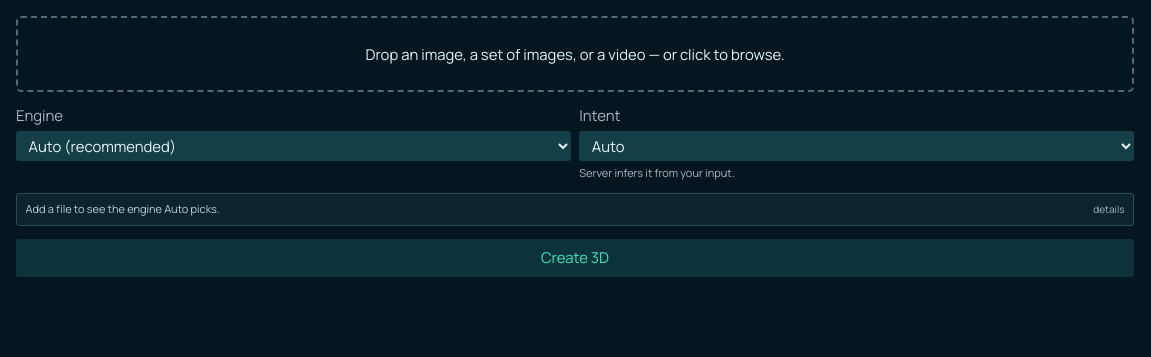
CreatePanel capture contract › responds to a programmatic value set plus a change event
This screenshot has width=1151, height=357.
Step 1. Select "preview" in the dropdown labelled "Engine" → (293, 146), box [16, 130, 571, 161]
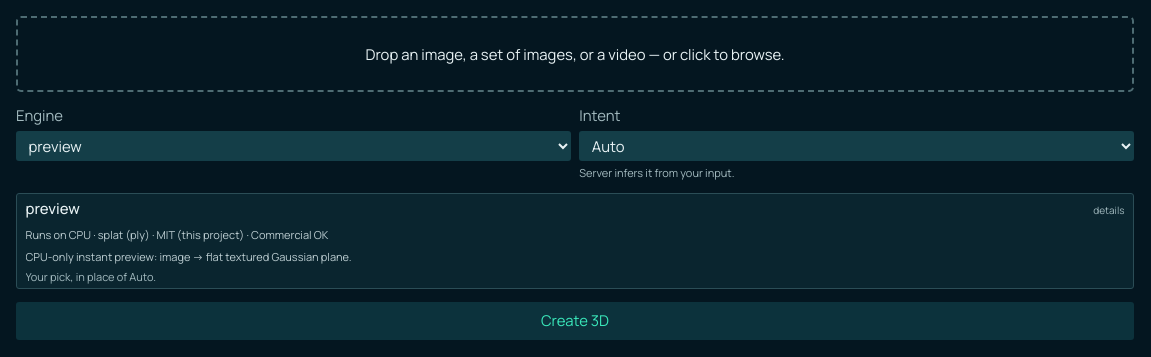
Step 2. Select "Scene (portal)" in the dropdown labelled "Intent Server infers it from your input." → (857, 146), box [579, 130, 1134, 161]
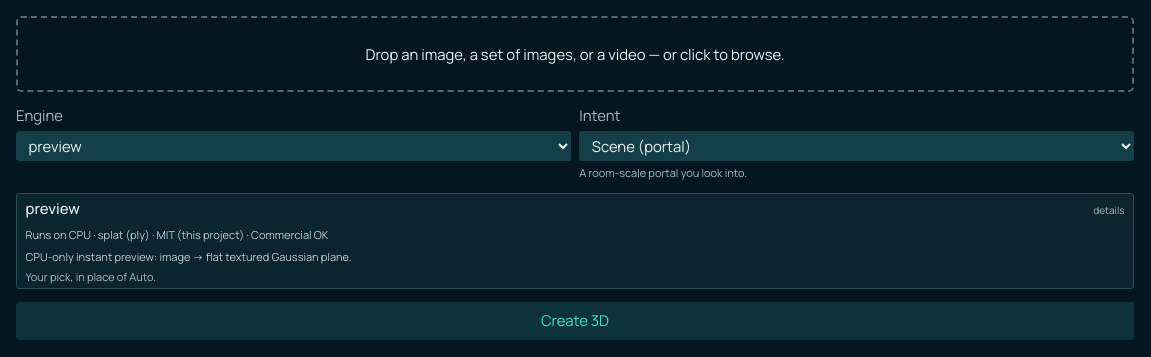
expect the text "A room-scale portal you look into." is shown: met, box [579, 165, 747, 180]
